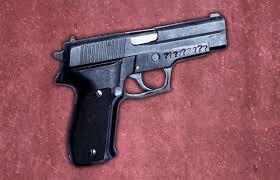gun: (36, 9, 240, 172)
